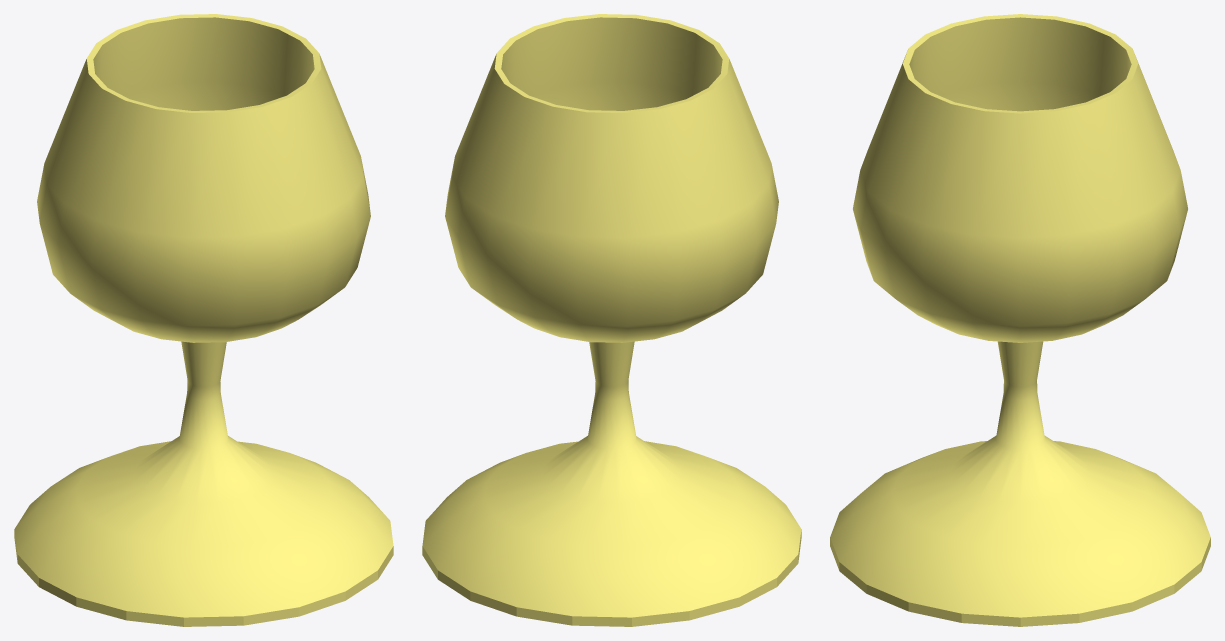
Rendered from Glass03.fbx.
The picture shows the model from 3 angles, left to right: view 1: azimuth 30°, elevation 25°; view 2: azimuth 150°, elevation 25°; view 3: azimuth 270°, elevation 25°; orthographic projection.
Parts seen in each view (by area): view 1: Glass03_Modelling_v001:Glass_Glass; view 2: Glass03_Modelling_v001:Glass_Glass; view 3: Glass03_Modelling_v001:Glass_Glass.
Part boxes in pixels (x1=…): Glass03_Modelling_v001:Glass_Glass: x1=14, y1=14, x2=393, y2=626; Glass03_Modelling_v001:Glass_Glass: x1=422, y1=14, x2=801, y2=626; Glass03_Modelling_v001:Glass_Glass: x1=830, y1=14, x2=1210, y2=626.
Size of the model in its own units: 7.71 by 10.78 by 7.71.
Materials: 1 (1 with a texture image).
